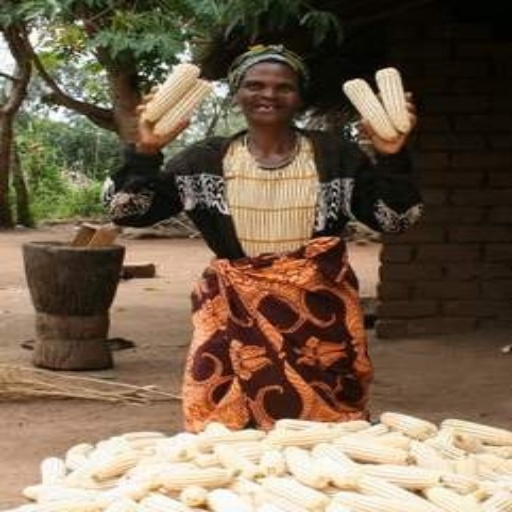hand: (133, 84, 191, 152), (354, 84, 410, 150)
